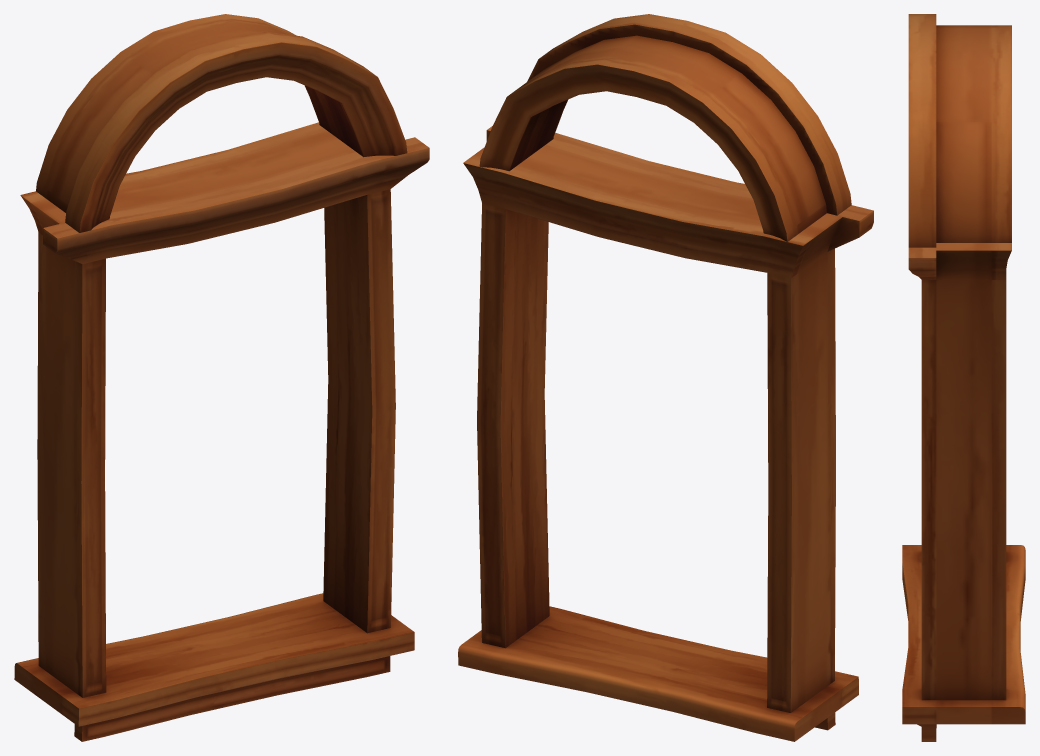
File: PropWindow01TypeG_1_1.FBX
The picture shows the model from 3 angles, left to right: view 1: azimuth 30°, elevation 25°; view 2: azimuth 150°, elevation 25°; view 3: azimuth 270°, elevation 25°; orthographic projection. The views are drawn at different scales.
Parts seen in each view (by area): view 1: PropWindow01TypeG_1_1; view 2: PropWindow01TypeG_1_1; view 3: PropWindow01TypeG_1_1.
Boxes of the visible parts, bbox=[...] form: PropWindow01TypeG_1_1: bbox=[14, 14, 429, 741]; PropWindow01TypeG_1_1: bbox=[458, 14, 873, 741]; PropWindow01TypeG_1_1: bbox=[902, 14, 1025, 741].
Size of what is drawn, in the model's own units: 1.49 by 2.54 by 0.4449.
